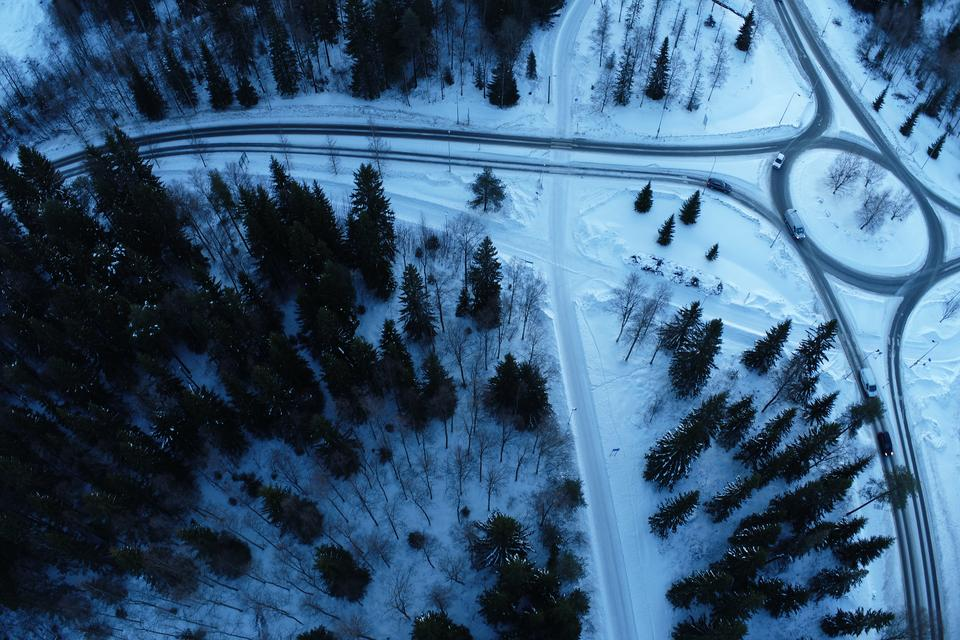intersection: (816, 317, 923, 368), (537, 123, 580, 188)
roundabout: (756, 115, 960, 305)
